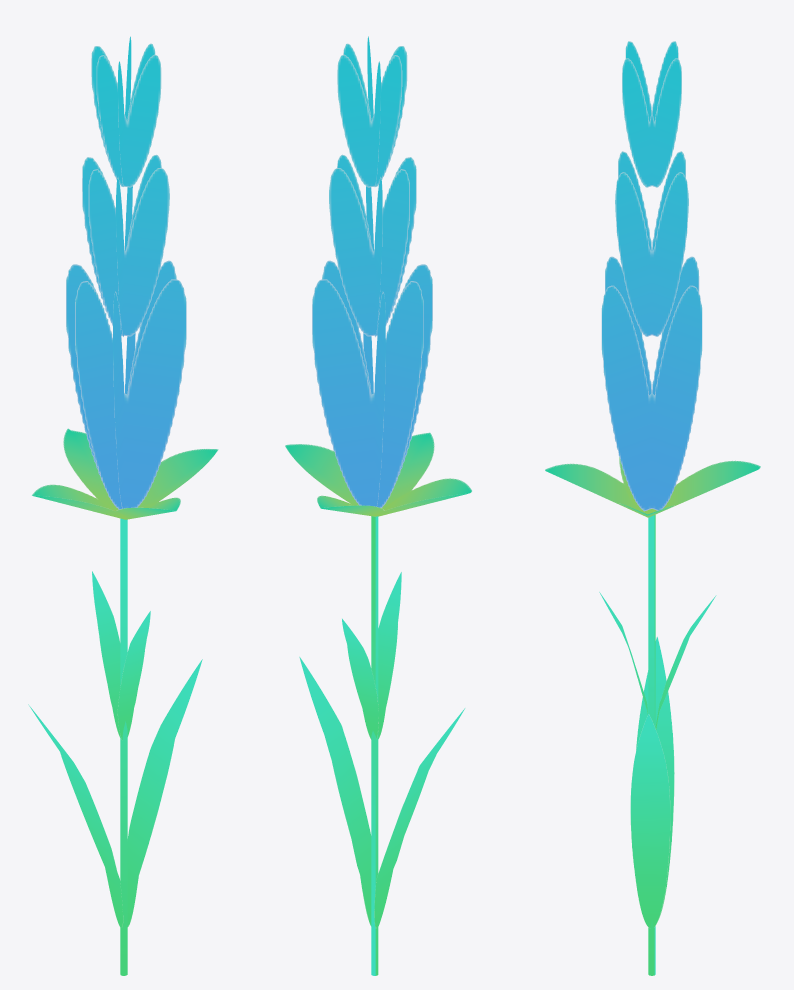
Rendered from Flowers_n03_19.fbx.
3 views of the same model, side by side, from view 1: azimuth 30°, elevation 25°; view 2: azimuth 150°, elevation 25°; view 3: azimuth 270°, elevation 25° (orthographic).
Visible parts, largest first — view 1: polySurface607; view 2: polySurface607; view 3: polySurface607.
Boxes of the visible parts, x1=… form: polySurface607: x1=28, y1=36, x2=218, y2=975; polySurface607: x1=285, y1=36, x2=471, y2=975; polySurface607: x1=545, y1=41, x2=760, y2=975.
Size of the model in its own units: 28.59 by 116 by 28.58.
Materials: 1 (1 with a texture image).
